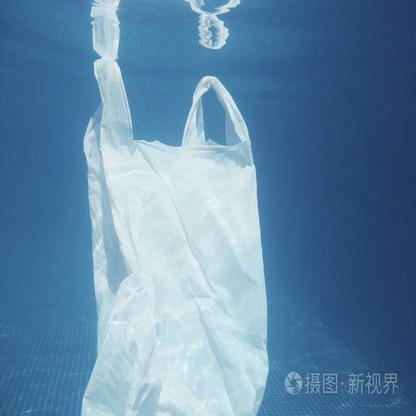plastic bag: (77, 55, 272, 416)
